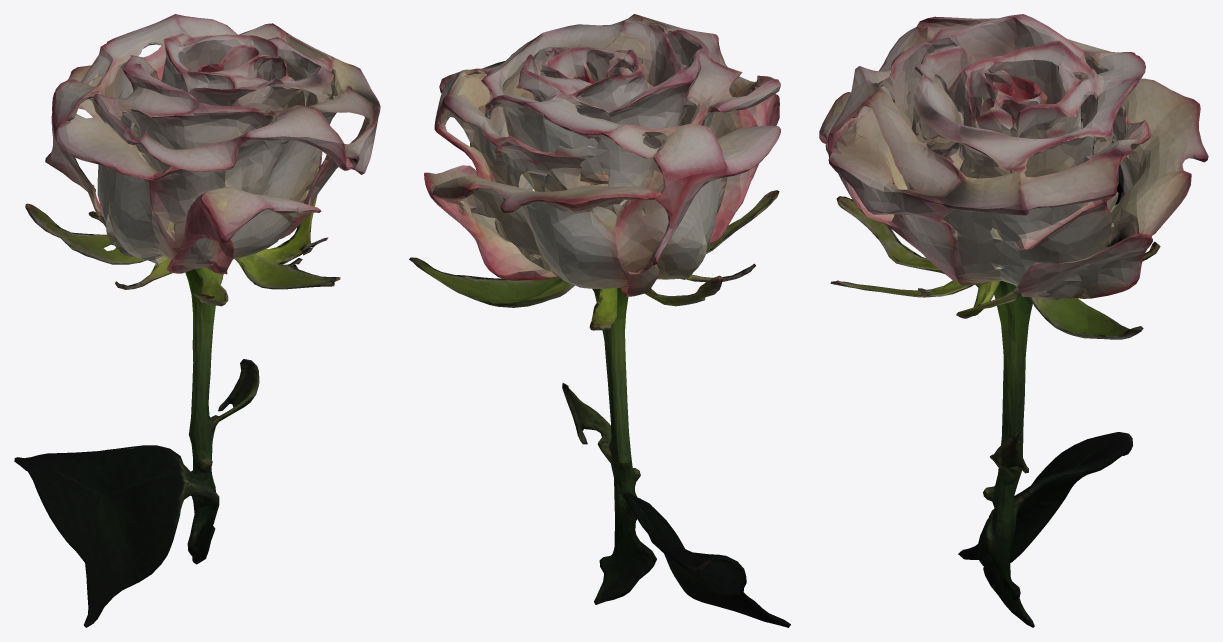
The picture shows the model from 3 angles, left to right: view 1: azimuth 30°, elevation 25°; view 2: azimuth 150°, elevation 25°; view 3: azimuth 270°, elevation 25°; orthographic projection. The views are drawn at different scales.
Visible parts, largest first — view 1: world; view 2: world; view 3: world.
Part boxes in pixels (box(x1,y1,x2,y2)): world: box(14, 14, 380, 627); world: box(409, 14, 790, 627); world: box(819, 14, 1208, 627).
Size of the model in its own units: 0.576 by 0.9539 by 0.5784.
Materials: 1 (1 with a texture image).
